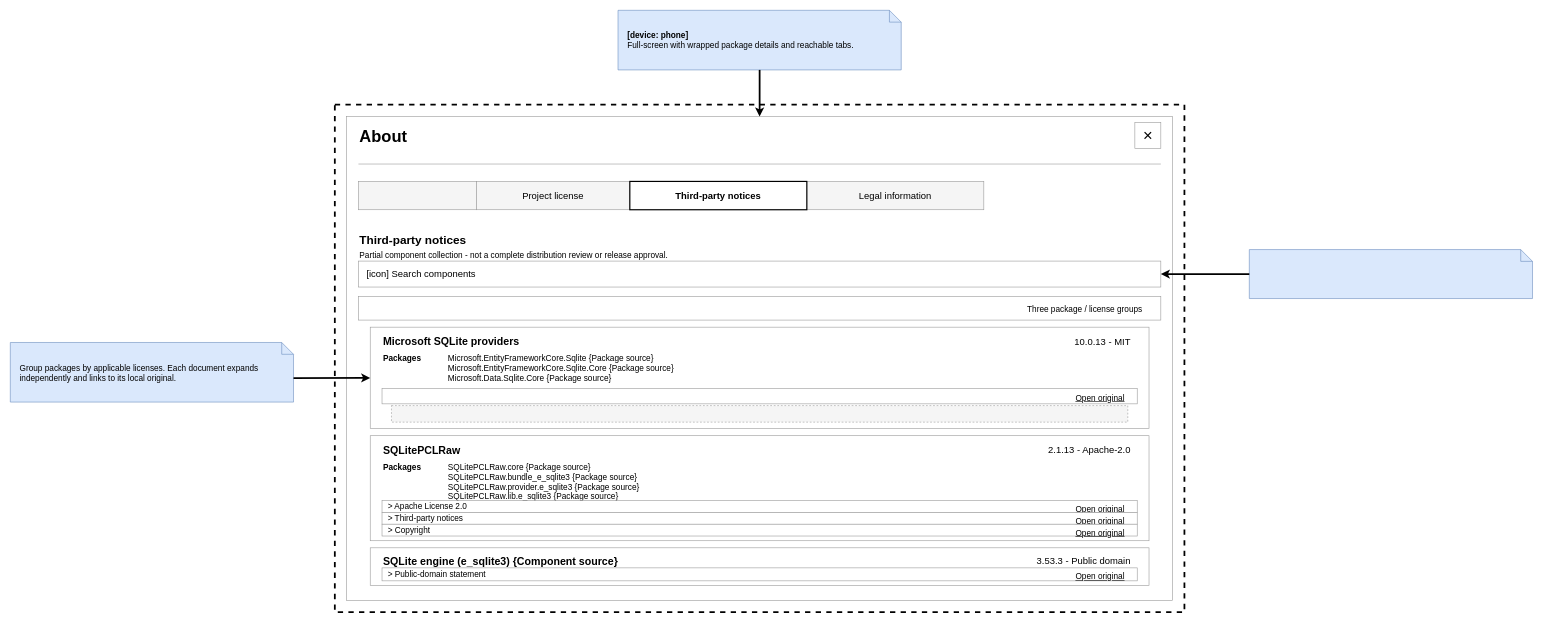
This 1543x623 diagram has some shape labels left out. Here are the shapes that lost their labels. From the top down, the box of each, then its label:
(358, 181, 476, 210): Overview
(1249, 249, 1533, 299): Search component and package names; keep matching package context visible.
(358, 296, 1161, 320): v SQLite
(381, 388, 1137, 404): v MIT license
(391, 405, 1128, 422): {Full original legal text - placeholder body illustrates the expanded document}
